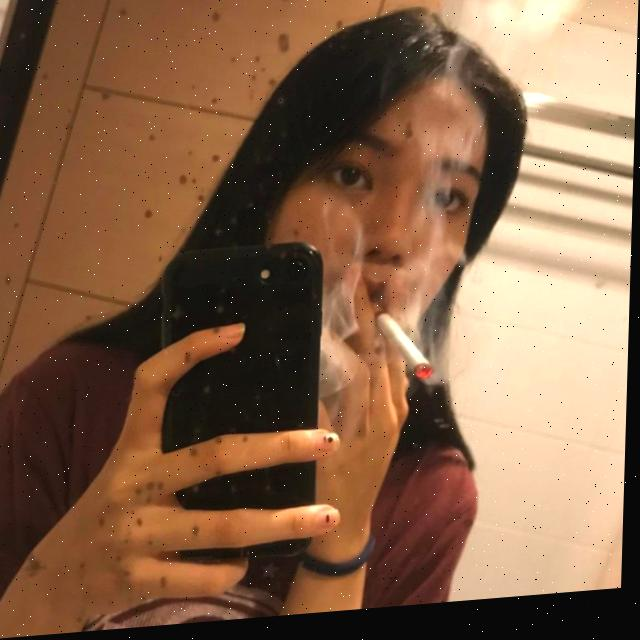cigarette: (370, 304, 439, 391)
